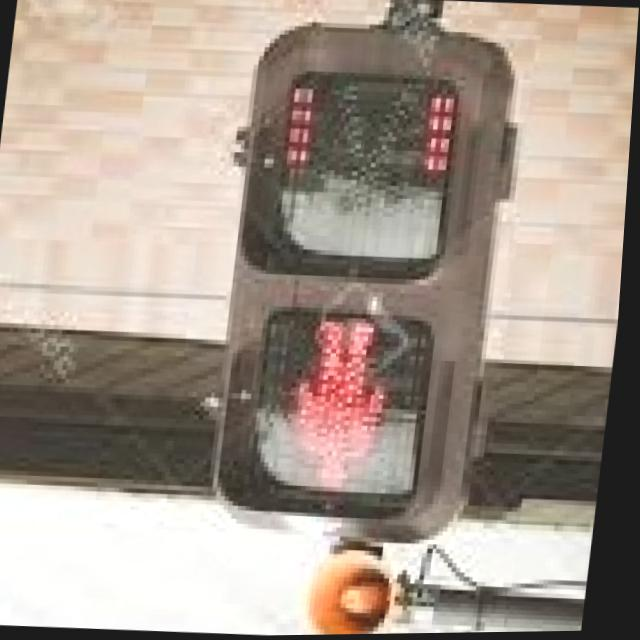red_light: (260, 309, 415, 522)
